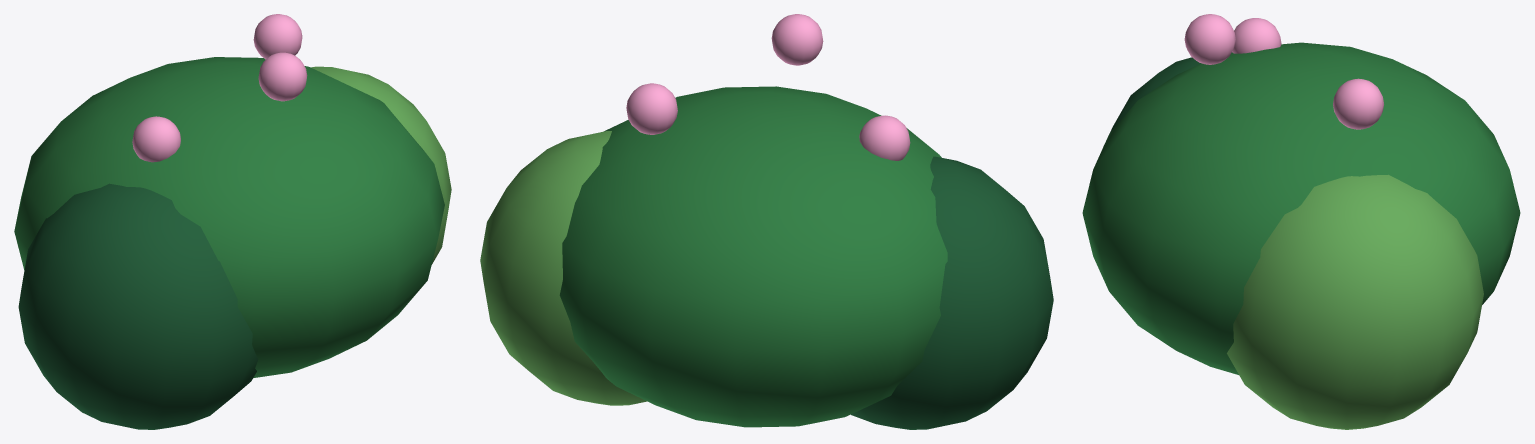
3 renders of one model, left to right at view 1: azimuth 30°, elevation 25°; view 2: azimuth 150°, elevation 25°; view 3: azimuth 270°, elevation 25°, orthographic. The views are drawn at different scales.
Visible parts, largest first — view 1: flowering-bush; view 2: flowering-bush; view 3: flowering-bush.
Boxes of the visible parts, x1,y1,x2,y2 form: flowering-bush: (14,14,451,429); flowering-bush: (480,14,1053,429); flowering-bush: (1082,14,1520,429).
Bounding box in the file's own units: 0.96 × 0.69 × 0.768.
